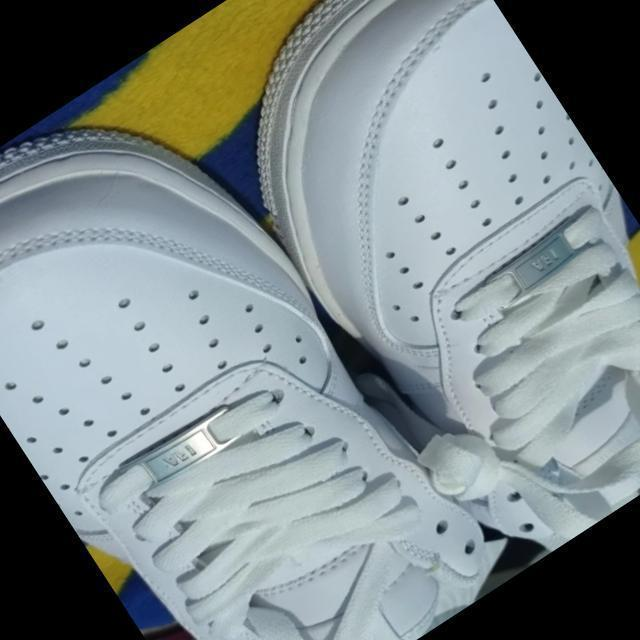nike original air force: (0, 42, 512, 640), (172, 0, 640, 588)
